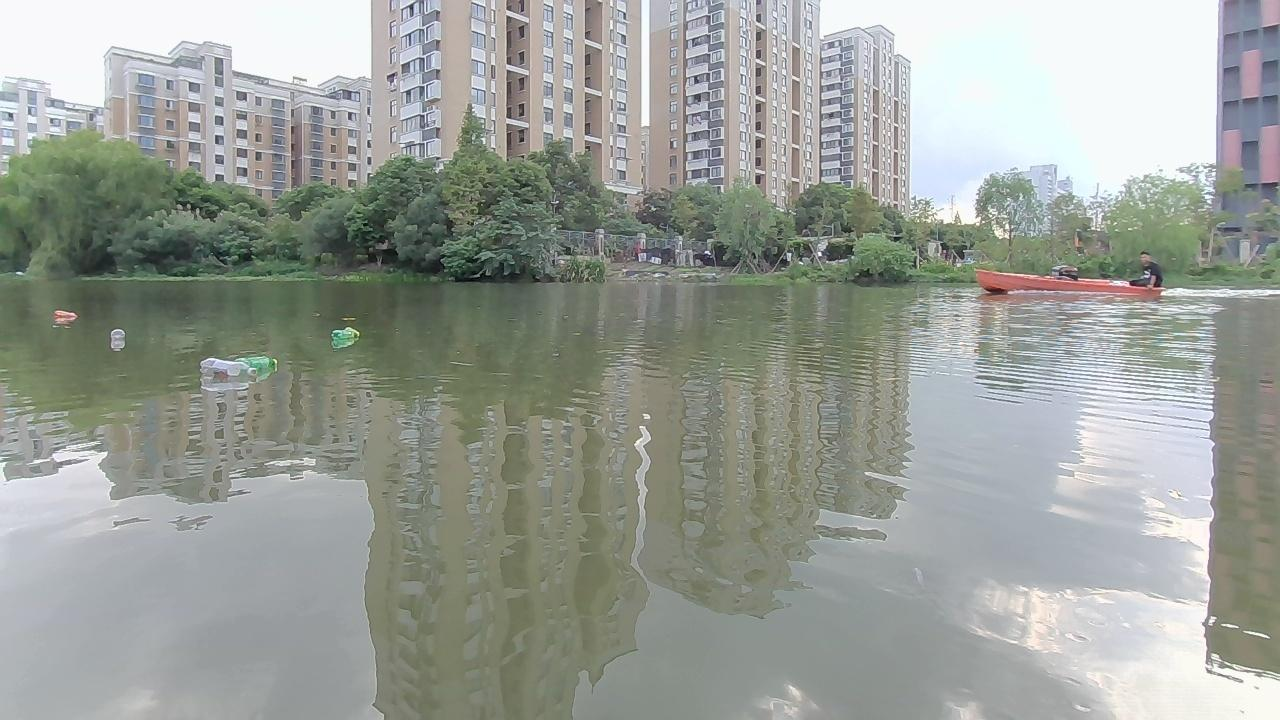bottle: (196, 351, 256, 383), (231, 357, 279, 375), (328, 327, 361, 348), (106, 324, 131, 350), (52, 307, 79, 323)
